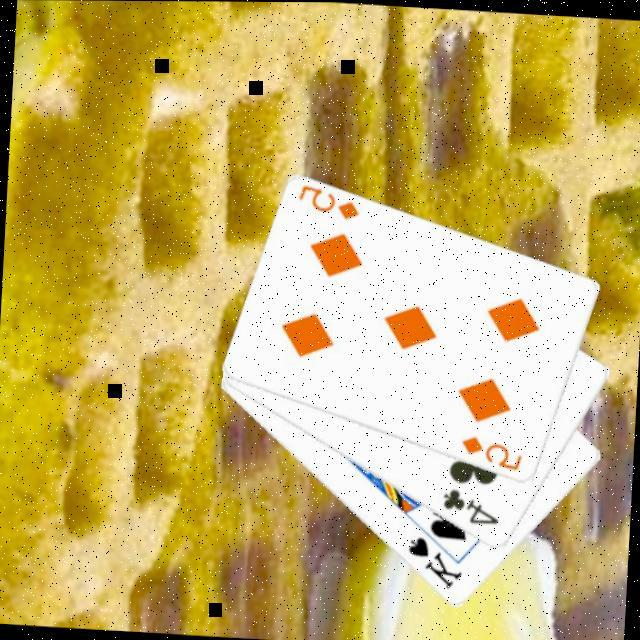4C: (439, 486, 505, 531)
5D: (458, 433, 528, 476), (295, 183, 365, 226)
KS: (403, 534, 468, 595)
